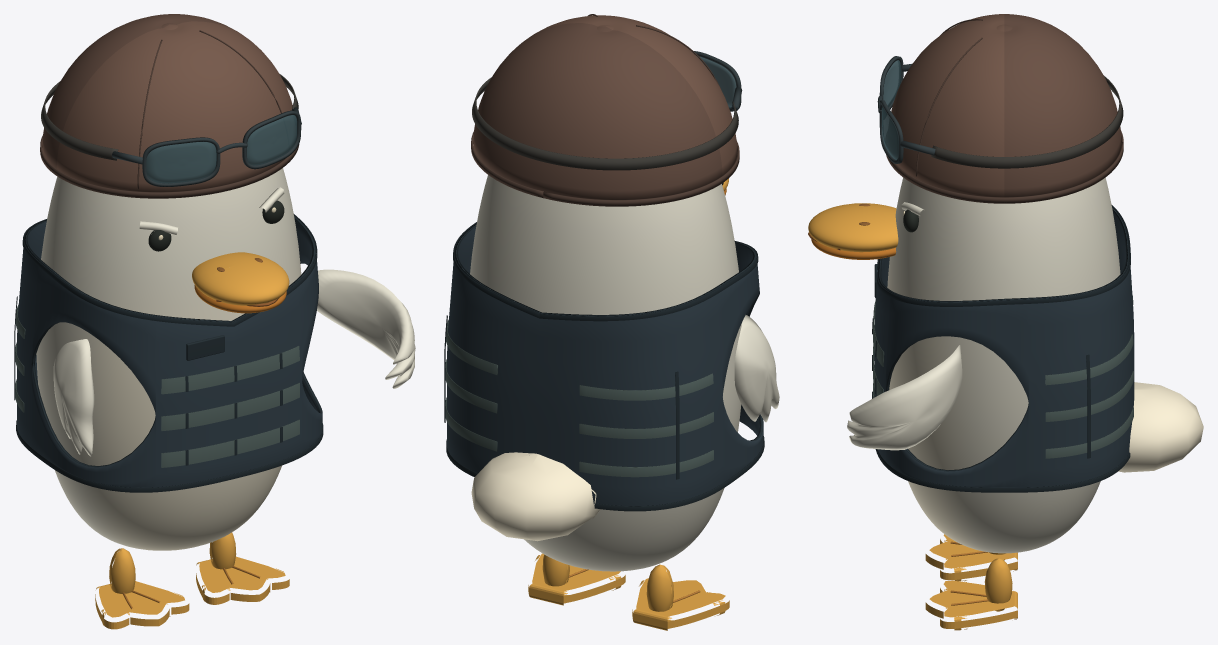
Rendered from fitted-species-goose-ready-character.glb.
3 views of the same model, side by side, from view 1: azimuth 30°, elevation 25°; view 2: azimuth 150°, elevation 25°; view 3: azimuth 270°, elevation 25° (orthographic). The views are drawn at different scales.
Parts seen in each view (by area): view 1: goose_ready_after_goose_vest_refined_mesh, goose_ready_after_goose_torso_mesh, goose_ready_after_goose_face_aviator_cap_mesh, goose_ready_after_goose_face_raised_goggles_mesh, goose_ready_after_goose_rightArm_mesh, goose_ready_after_goose_beak_mesh, goose_ready_after_goose_leftArm_mesh, goose_ready_after_goose_leftFoot_mesh, goose_ready_after_goose_rightFoot_mesh; view 2: goose_ready_after_goose_vest_refined_mesh, goose_ready_after_goose_face_aviator_cap_mesh, goose_ready_after_goose_torso_mesh, goose_ready_after_goose_tail_mesh, goose_ready_after_goose_face_raised_goggles_mesh, goose_ready_after_goose_leftFoot_mesh, goose_ready_after_goose_leftArm_mesh, goose_ready_after_goose_rightFoot_mesh; view 3: goose_ready_after_goose_torso_mesh, goose_ready_after_goose_vest_refined_mesh, goose_ready_after_goose_face_aviator_cap_mesh, goose_ready_after_goose_rightArm_mesh, goose_ready_after_goose_tail_mesh, goose_ready_after_goose_face_raised_goggles_mesh, goose_ready_after_goose_beak_mesh, goose_ready_after_goose_rightFoot_mesh, goose_ready_after_goose_leftFoot_mesh.
Part boxes in pixels (bbox=[...]): goose_ready_after_goose_vest_refined_mesh: bbox=[14, 214, 323, 492]; goose_ready_after_goose_torso_mesh: bbox=[36, 168, 301, 550]; goose_ready_after_goose_face_aviator_cap_mesh: bbox=[40, 14, 299, 198]; goose_ready_after_goose_face_raised_goggles_mesh: bbox=[41, 74, 301, 186]; goose_ready_after_goose_rightArm_mesh: bbox=[317, 269, 415, 388]; goose_ready_after_goose_beak_mesh: bbox=[192, 252, 289, 313]; goose_ready_after_goose_leftArm_mesh: bbox=[53, 339, 94, 456]; goose_ready_after_goose_leftFoot_mesh: bbox=[95, 548, 189, 629]; goose_ready_after_goose_rightFoot_mesh: bbox=[196, 532, 289, 604]; goose_ready_after_goose_vest_refined_mesh: bbox=[444, 222, 764, 511]; goose_ready_after_goose_face_aviator_cap_mesh: bbox=[471, 14, 739, 206]; goose_ready_after_goose_torso_mesh: bbox=[470, 175, 741, 571]; goose_ready_after_goose_tail_mesh: bbox=[471, 452, 600, 541]; goose_ready_after_goose_face_raised_goggles_mesh: bbox=[472, 51, 742, 170]; goose_ready_after_goose_leftFoot_mesh: bbox=[632, 564, 729, 630]; goose_ready_after_goose_leftArm_mesh: bbox=[734, 315, 779, 422]; goose_ready_after_goose_rightFoot_mesh: bbox=[528, 553, 625, 605]; goose_ready_after_goose_torso_mesh: bbox=[887, 177, 1120, 553]; goose_ready_after_goose_vest_refined_mesh: bbox=[872, 205, 1134, 492]; goose_ready_after_goose_face_aviator_cap_mesh: bbox=[886, 14, 1123, 203]; goose_ready_after_goose_rightArm_mesh: bbox=[847, 345, 962, 450]; goose_ready_after_goose_tail_mesh: bbox=[1118, 382, 1203, 472]; goose_ready_after_goose_face_raised_goggles_mesh: bbox=[877, 56, 1123, 168]; goose_ready_after_goose_beak_mesh: bbox=[808, 203, 898, 259]; goose_ready_after_goose_rightFoot_mesh: bbox=[925, 558, 1017, 630]; goose_ready_after_goose_leftFoot_mesh: bbox=[925, 534, 1017, 581].
Size of the model in its own units: 1.26 by 2.15 by 1.37.
